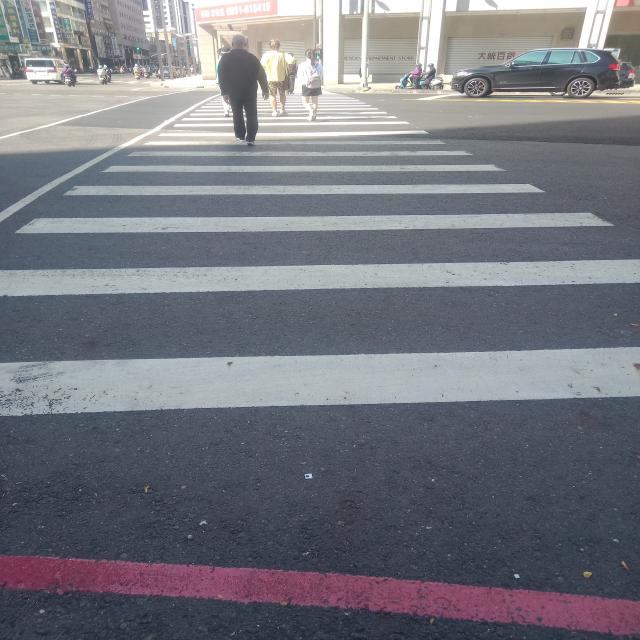person: (218, 35, 268, 145), (260, 40, 295, 116), (297, 50, 323, 120), (410, 62, 423, 90), (425, 62, 437, 85)
zebra crossing: (6, 91, 636, 414)
